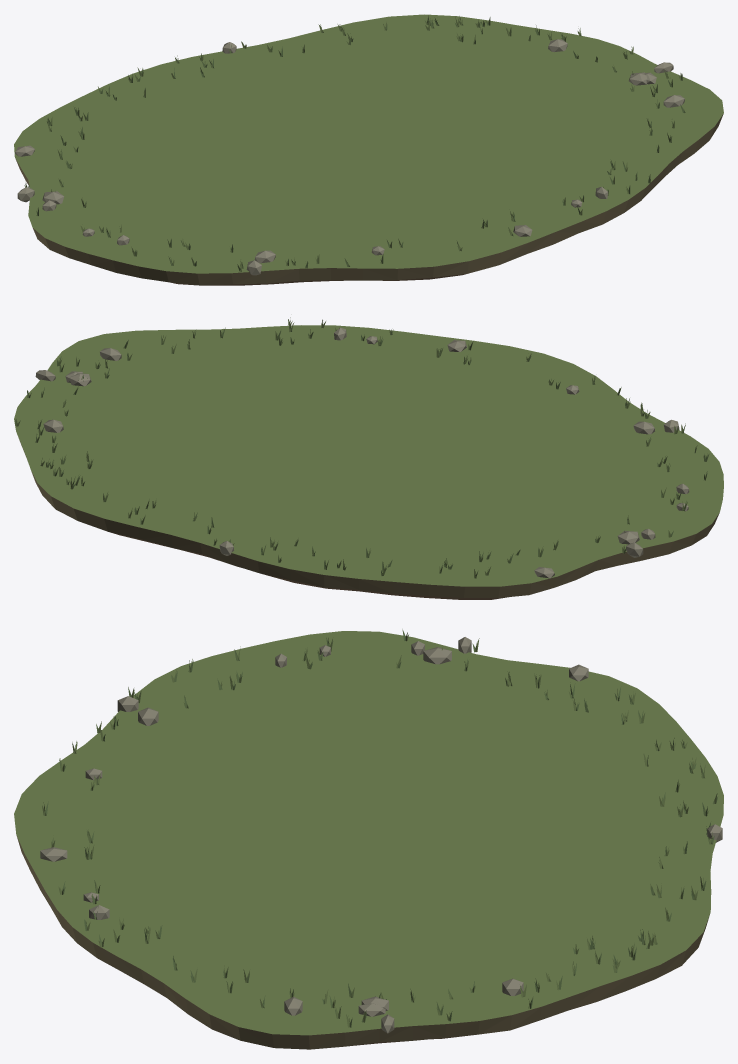
The model's file is Camp_Clearing.fbx.
The picture shows the model from 3 angles, top to bottom: view 1: azimuth 30°, elevation 25°; view 2: azimuth 150°, elevation 25°; view 3: azimuth 270°, elevation 25°; orthographic projection. The views are drawn at different scales.
Visible parts, largest first — view 1: Camp_Clearing_Export; view 2: Camp_Clearing_Export; view 3: Camp_Clearing_Export.
Boxes of the visible parts, box(x1,y1,x2,y2) form: Camp_Clearing_Export: box(14, 14, 723, 285); Camp_Clearing_Export: box(14, 317, 723, 599); Camp_Clearing_Export: box(14, 629, 723, 1049).
Size of the model in its own units: 18.13 by 0.8538 by 13.45.
